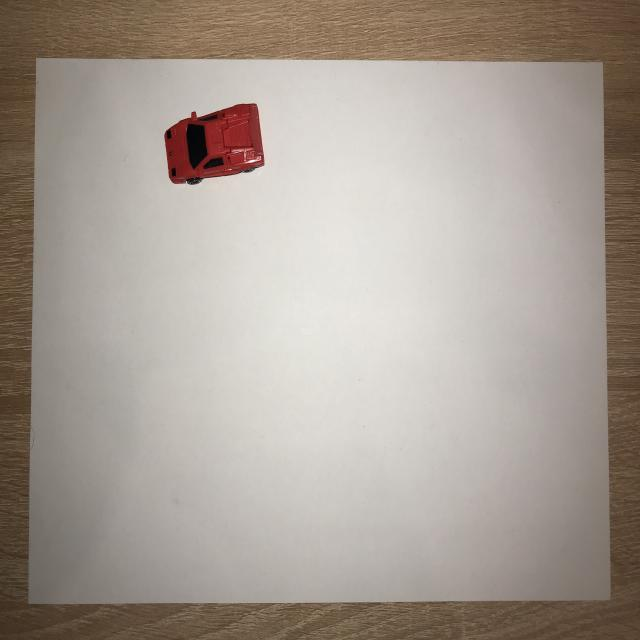car: (160, 97, 268, 188)
